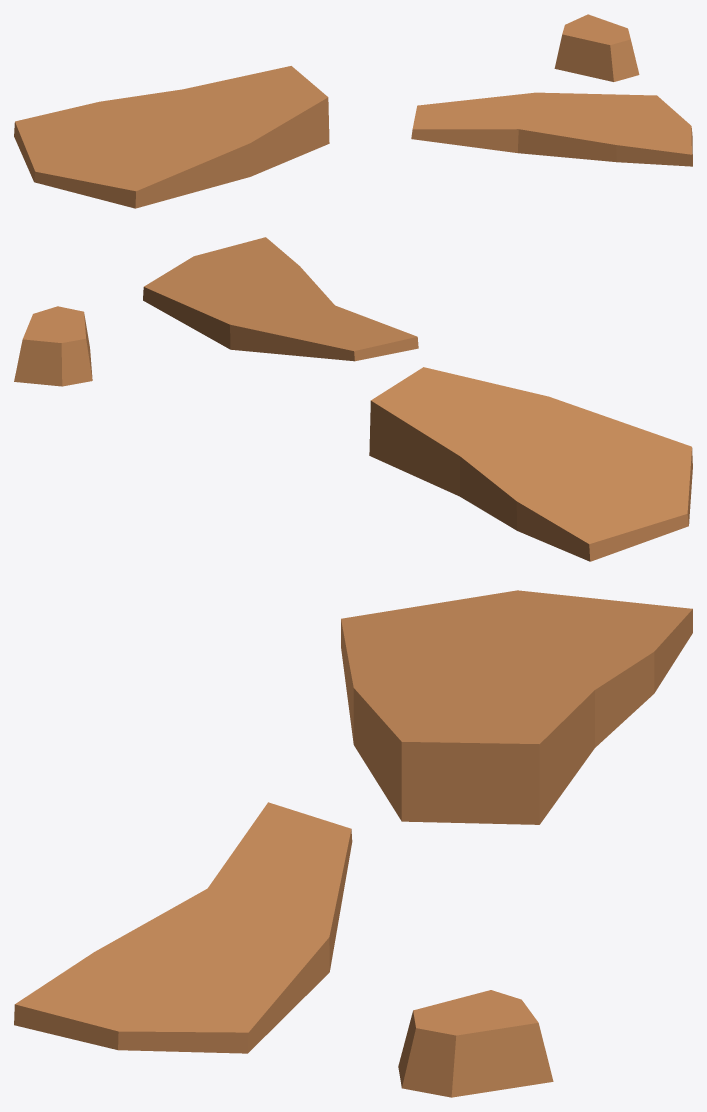
File: SandRocks12_LOD1.fbx
3 views of the same model, one above another, from view 1: azimuth 30°, elevation 25°; view 2: azimuth 150°, elevation 25°; view 3: azimuth 270°, elevation 25° (orthographic). The views are drawn at different scales.
Visible parts, largest first — view 1: Plane.164; view 2: Plane.164; view 3: Plane.164.
Boxes of the visible parts, box(x1,y1,x2,y2) form: Plane.164: box(14, 14, 692, 208); Plane.164: box(14, 237, 692, 561); Plane.164: box(14, 590, 692, 1097).
Size of the model in its own units: 131 by 11.67 by 78.57.
